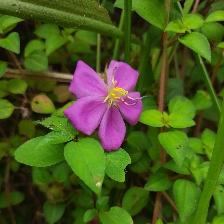malabar melastome: (62, 58, 146, 153)
